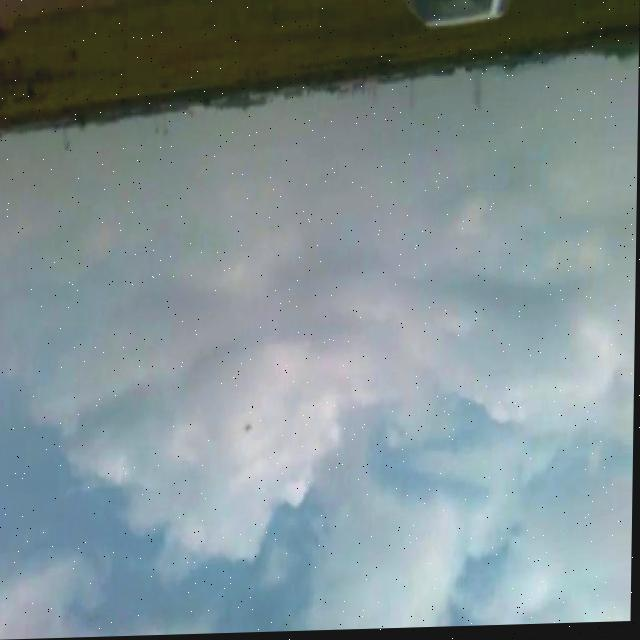drone: (244, 422, 258, 446)
